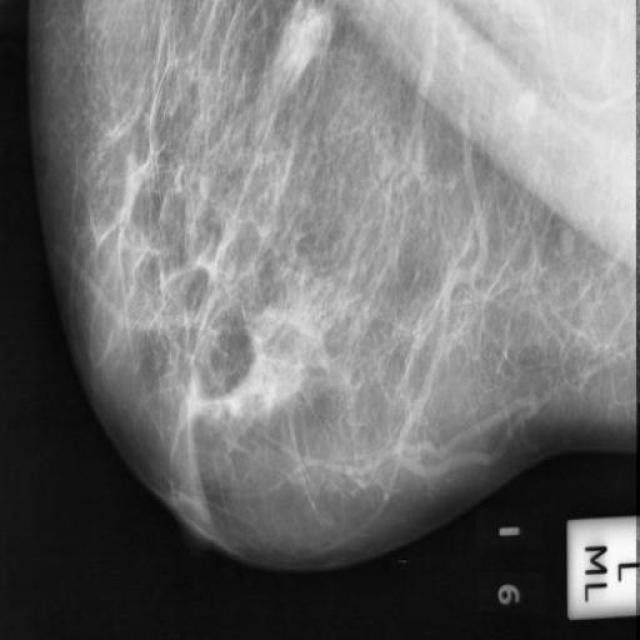cancer: (275, 24, 340, 102)
